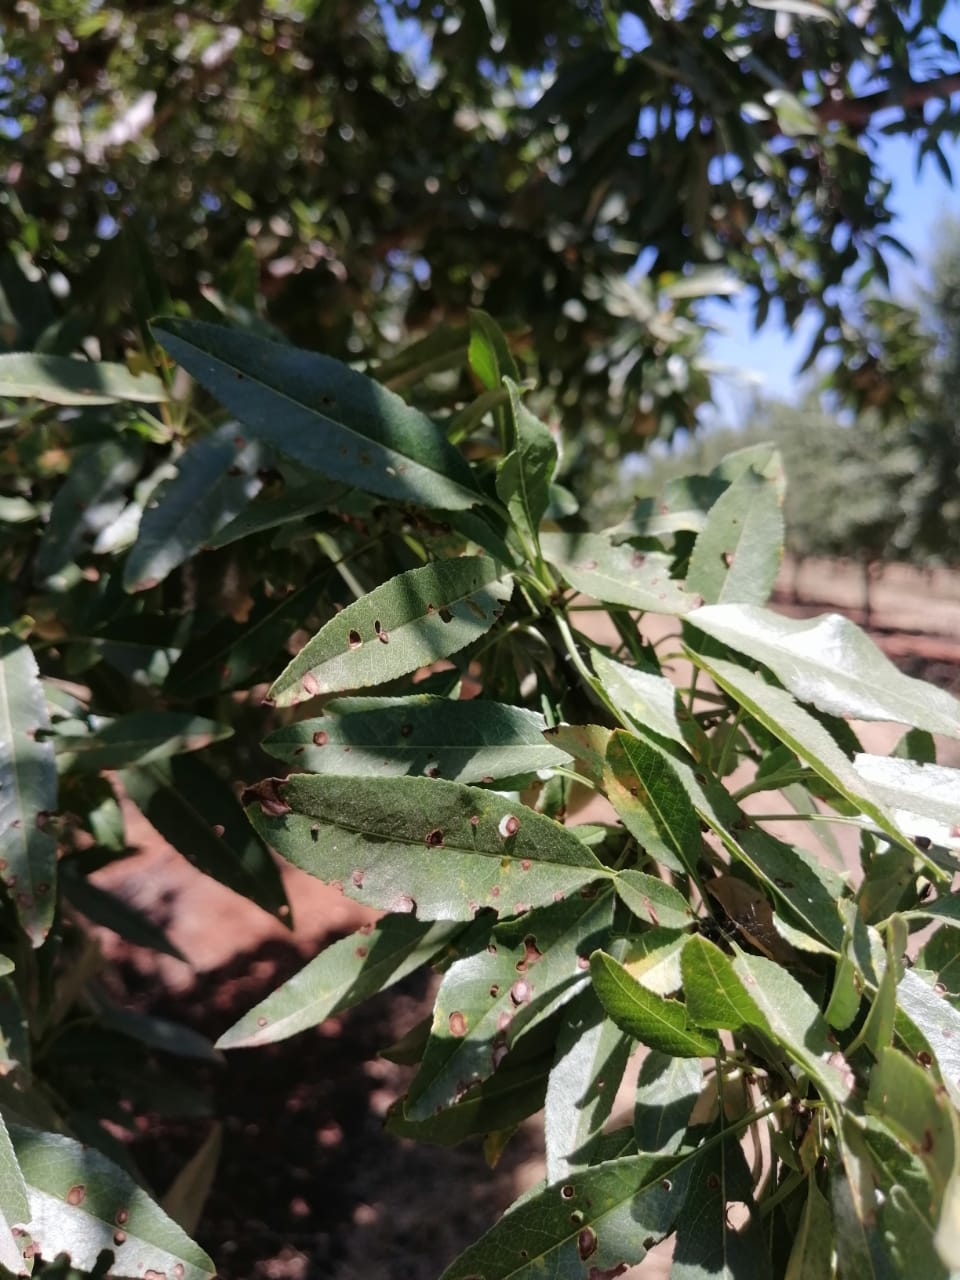coryneum: (146, 317, 490, 513), (238, 771, 605, 921), (401, 891, 611, 1123), (260, 556, 518, 703), (438, 1148, 696, 1272), (680, 465, 787, 604)
